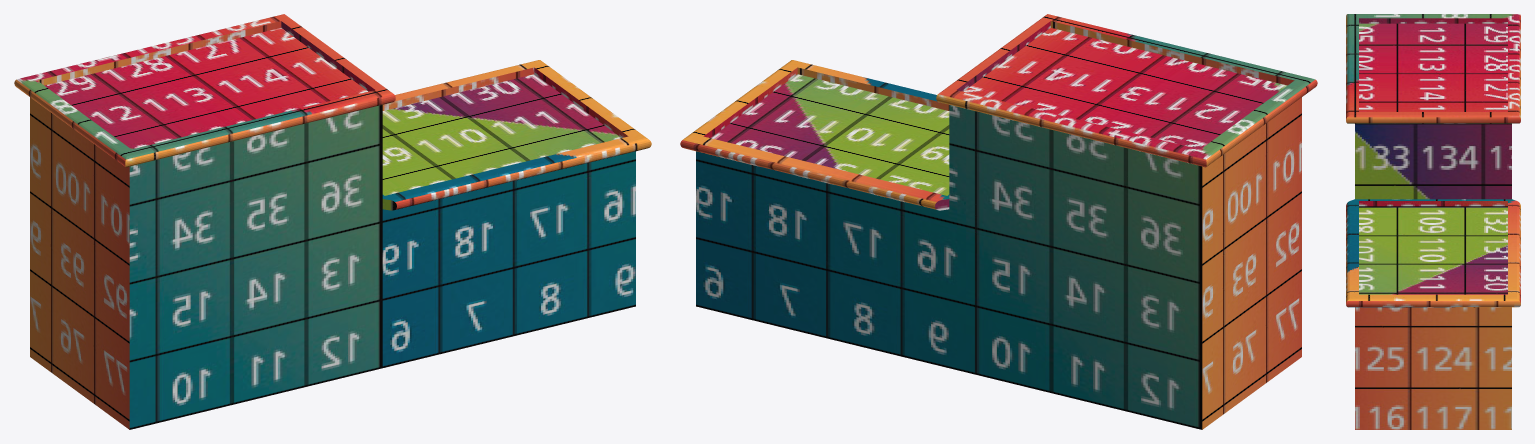
File: Planter.fbx
The picture shows the model from 3 angles, left to right: view 1: azimuth 30°, elevation 25°; view 2: azimuth 150°, elevation 25°; view 3: azimuth 270°, elevation 25°; orthographic projection. The views are drawn at different scales.
Visible parts, largest first — view 1: Planter; view 2: Planter; view 3: Planter.
Boxes of the visible parts, <box> form: Planter: <box>14,14,651,429</box>; Planter: <box>680,14,1317,429</box>; Planter: <box>1346,14,1520,429</box>.
Bounding box in the file's own units: 336 × 169 × 123.
